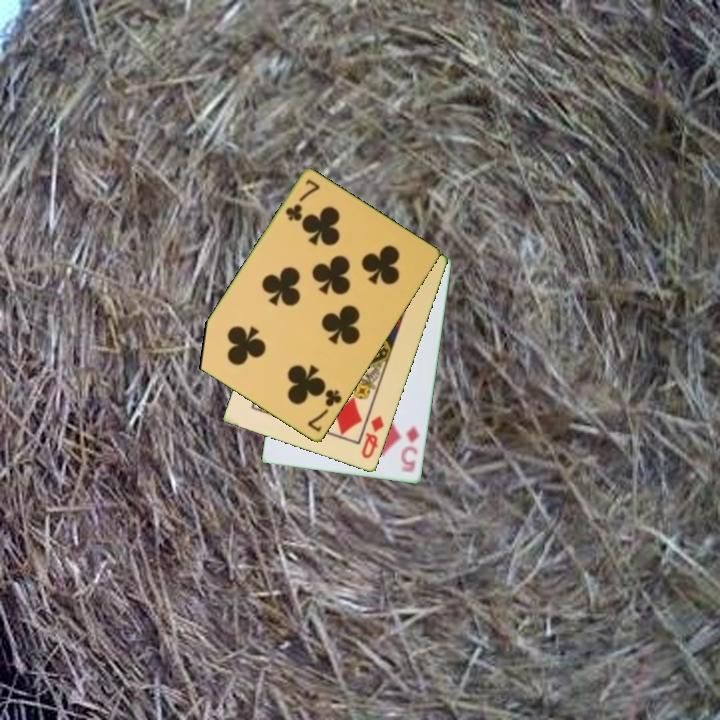5d: (398, 422, 423, 476)
7c: (304, 386, 345, 435), (282, 176, 323, 225)
Qd: (358, 412, 387, 462)
